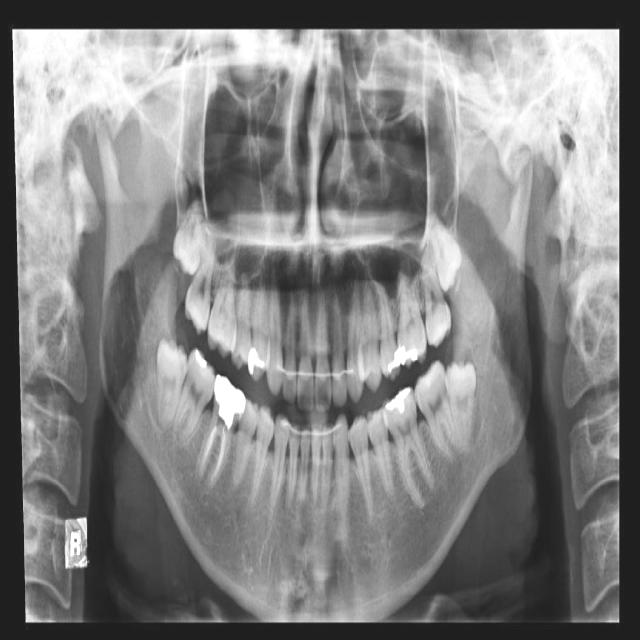Caries: (440, 378, 447, 399)
Filling: (248, 335, 271, 381), (385, 386, 410, 414), (398, 346, 420, 366), (387, 347, 400, 374), (194, 349, 209, 369)
Periapical lesion: (472, 390, 482, 441)
Root Canal Treatment: (200, 427, 218, 474), (210, 431, 227, 480)
impacted tooth: (158, 339, 189, 432), (427, 211, 462, 293), (446, 362, 477, 448), (174, 198, 205, 275)
